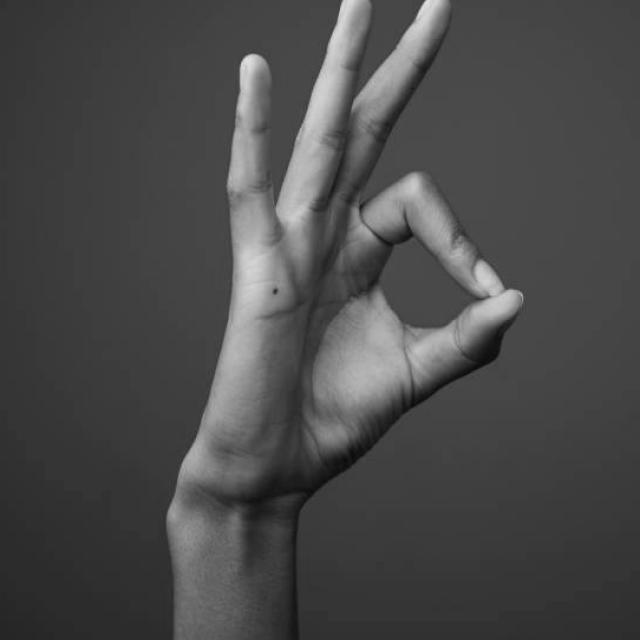perfect: (163, 0, 532, 535)
